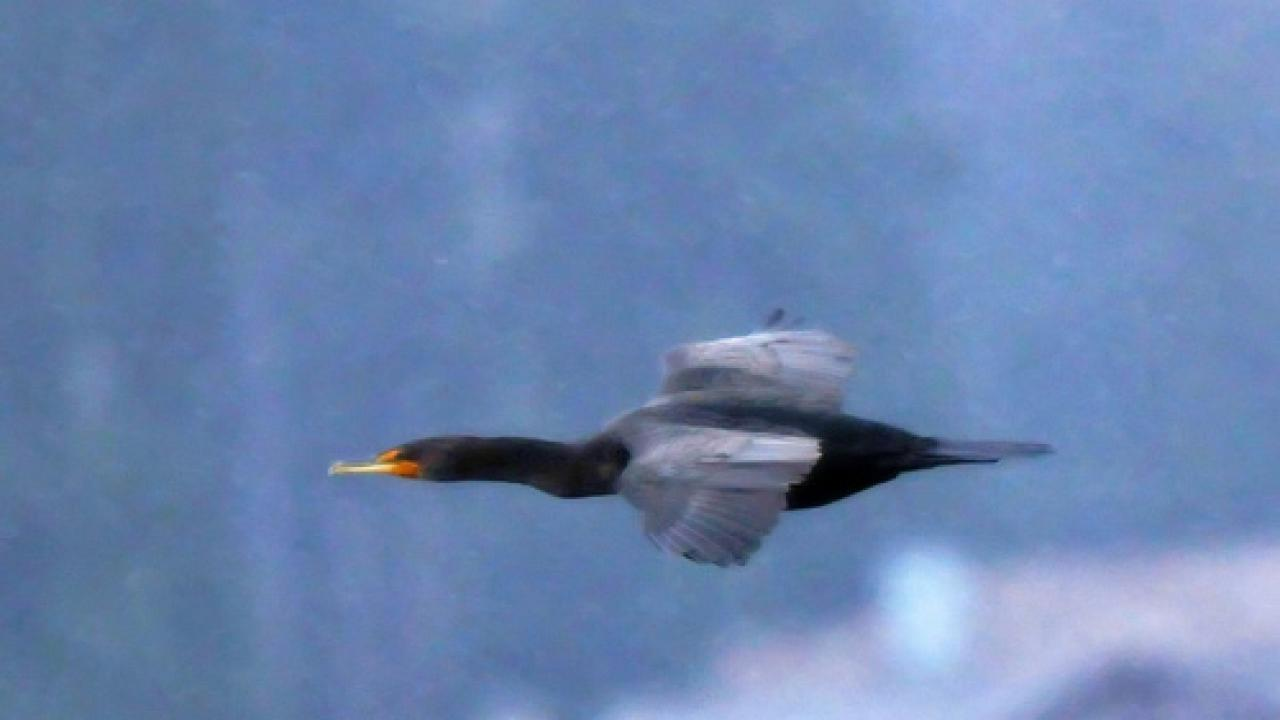Bird: (316, 311, 1066, 577)
